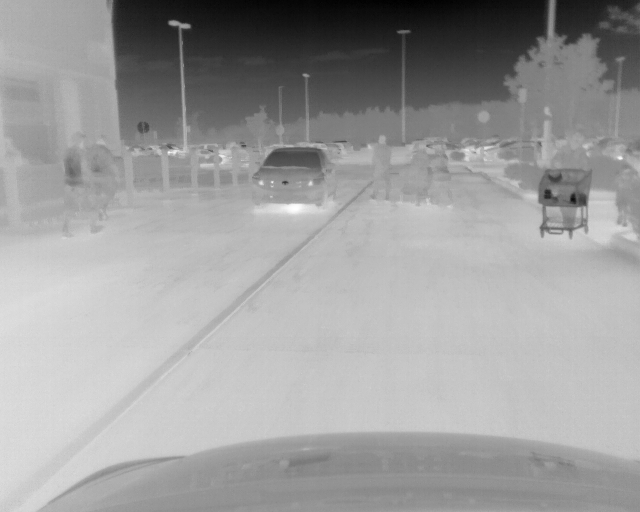car: (252, 145, 336, 208)
people: (60, 131, 103, 235), (553, 132, 583, 231), (91, 134, 118, 213), (369, 133, 390, 202), (431, 145, 453, 208), (614, 166, 632, 229), (409, 150, 428, 204)
